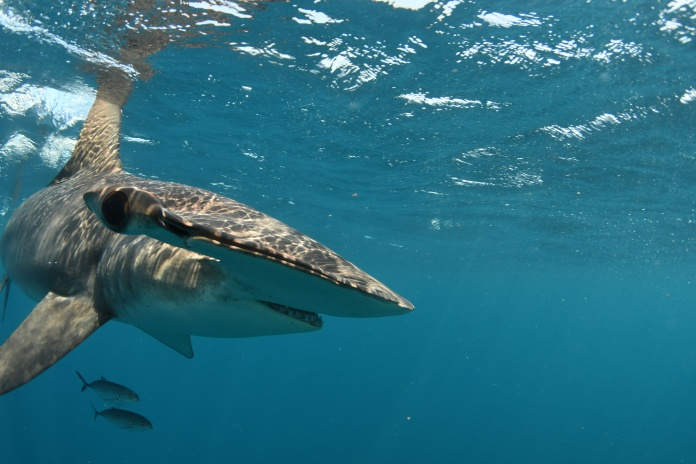Hammer: (1, 44, 441, 430)
